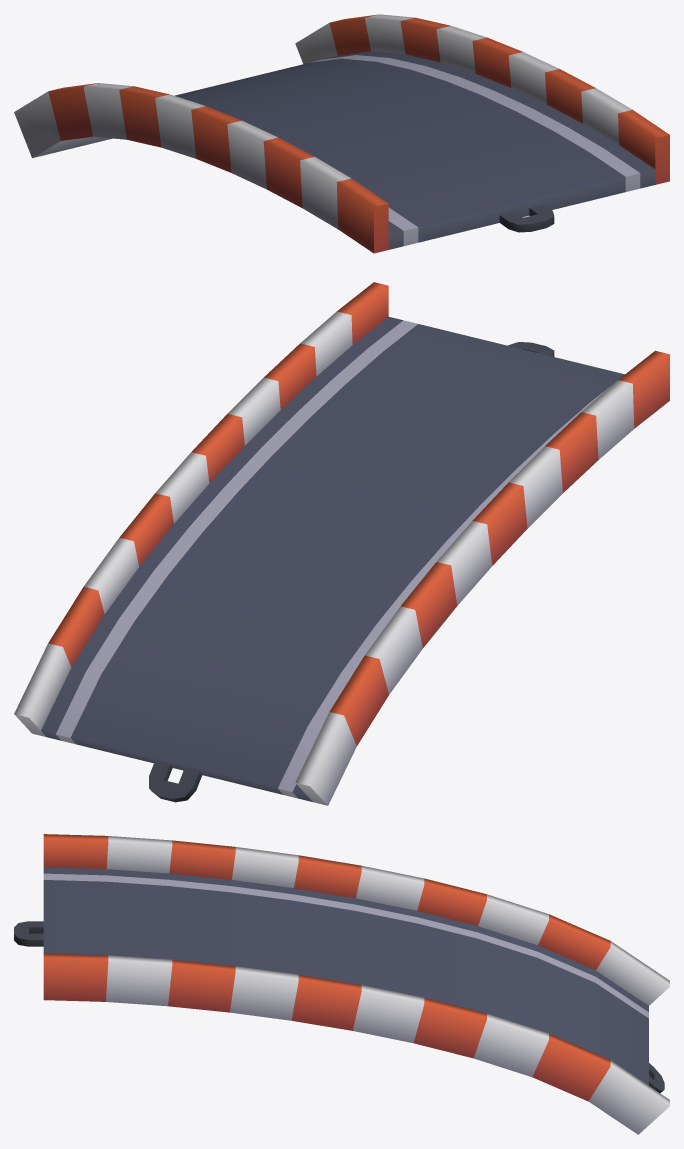
File: track-road-wide-straight-hill-end.glb
3 views of the same model, one above another, from view 1: azimuth 30°, elevation 25°; view 2: azimuth 150°, elevation 25°; view 3: azimuth 270°, elevation 25° (orthographic). The views are drawn at different scales.
Visible parts, largest first — view 1: track-road-wide-straight-hill-end; view 2: track-road-wide-straight-hill-end; view 3: track-road-wide-straight-hill-end.
Boxes of the visible parts, bbox=[...] form: track-road-wide-straight-hill-end: bbox=[14, 14, 669, 253]; track-road-wide-straight-hill-end: bbox=[14, 282, 669, 805]; track-road-wide-straight-hill-end: bbox=[14, 834, 669, 1134].
Size of the model in its own units: 2 by 1.44 by 4.41.
